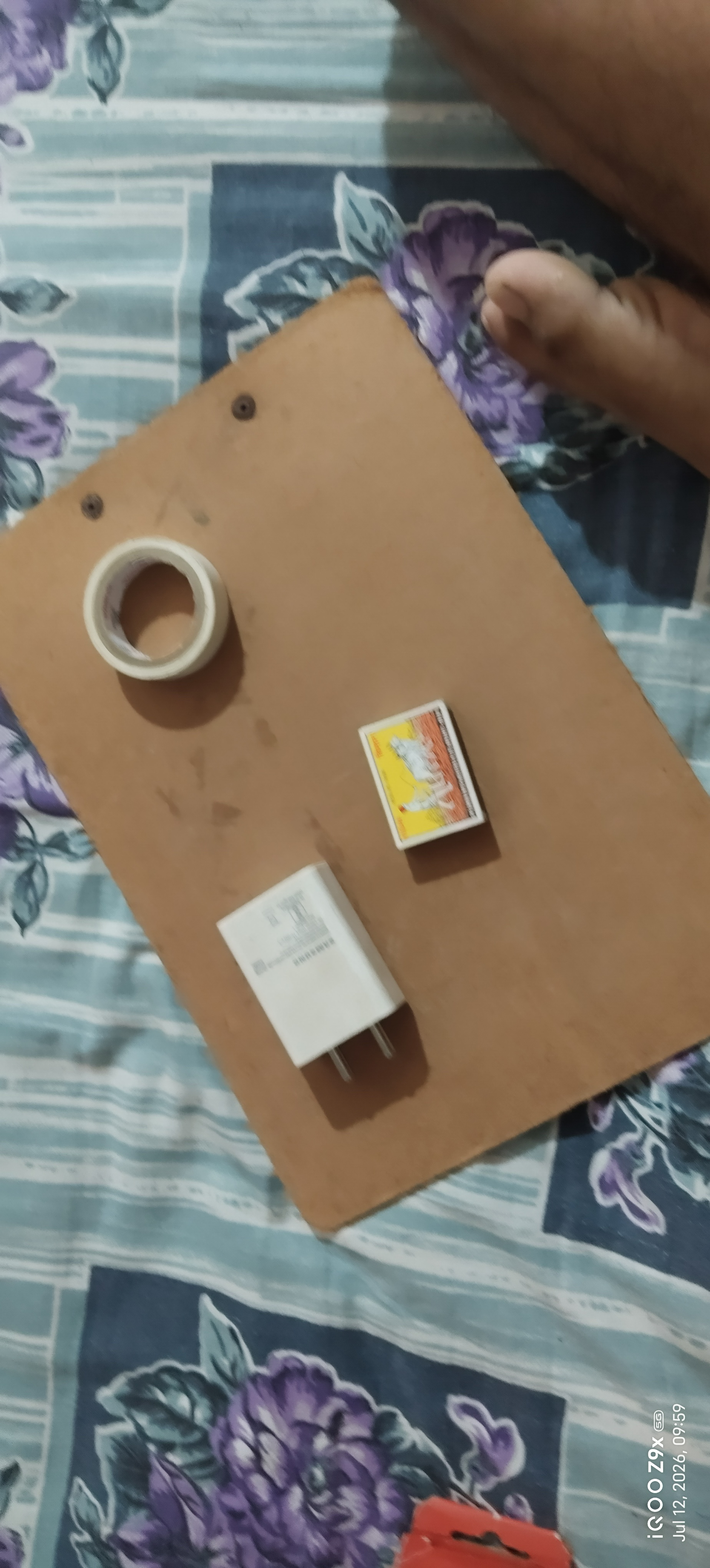charger: (212, 854, 416, 1095)
matchbox: (354, 674, 491, 868)
tape_roll: (69, 521, 238, 700)
